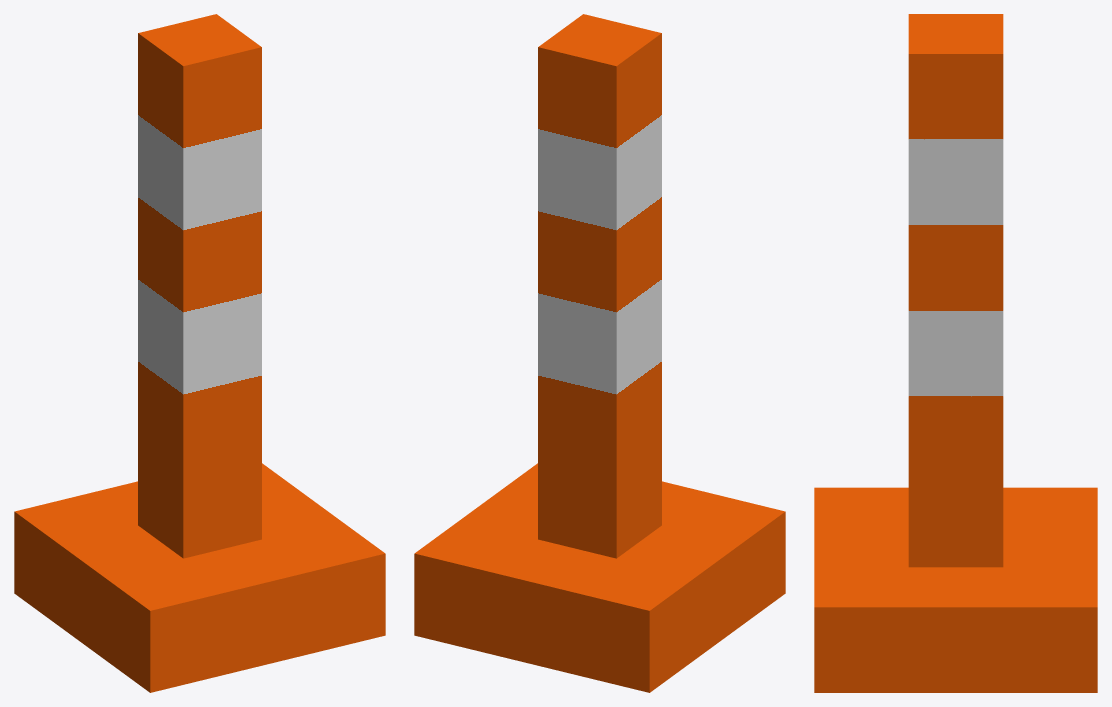
The picture shows the model from 3 angles, left to right: view 1: azimuth 30°, elevation 25°; view 2: azimuth 150°, elevation 25°; view 3: azimuth 270°, elevation 25°; orthographic projection. The views are drawn at different scales.
Parts seen in each view (by area): view 1: obj_cone1; view 2: obj_cone1; view 3: obj_cone1.
Part boxes in pixels (left/top/right/bottom): obj_cone1: left=14, top=14, right=385, bottom=692; obj_cone1: left=414, top=14, right=785, bottom=692; obj_cone1: left=814, top=14, right=1097, bottom=692.
Bounding box in the file's own units: 0.3 × 0.3 × 0.7.
Materials: 1 (1 with a texture image).
